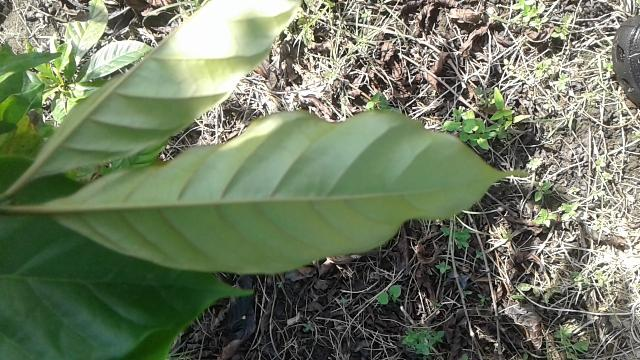healthy: (41, 108, 531, 273)
